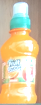orange: (1, 2, 39, 105)
